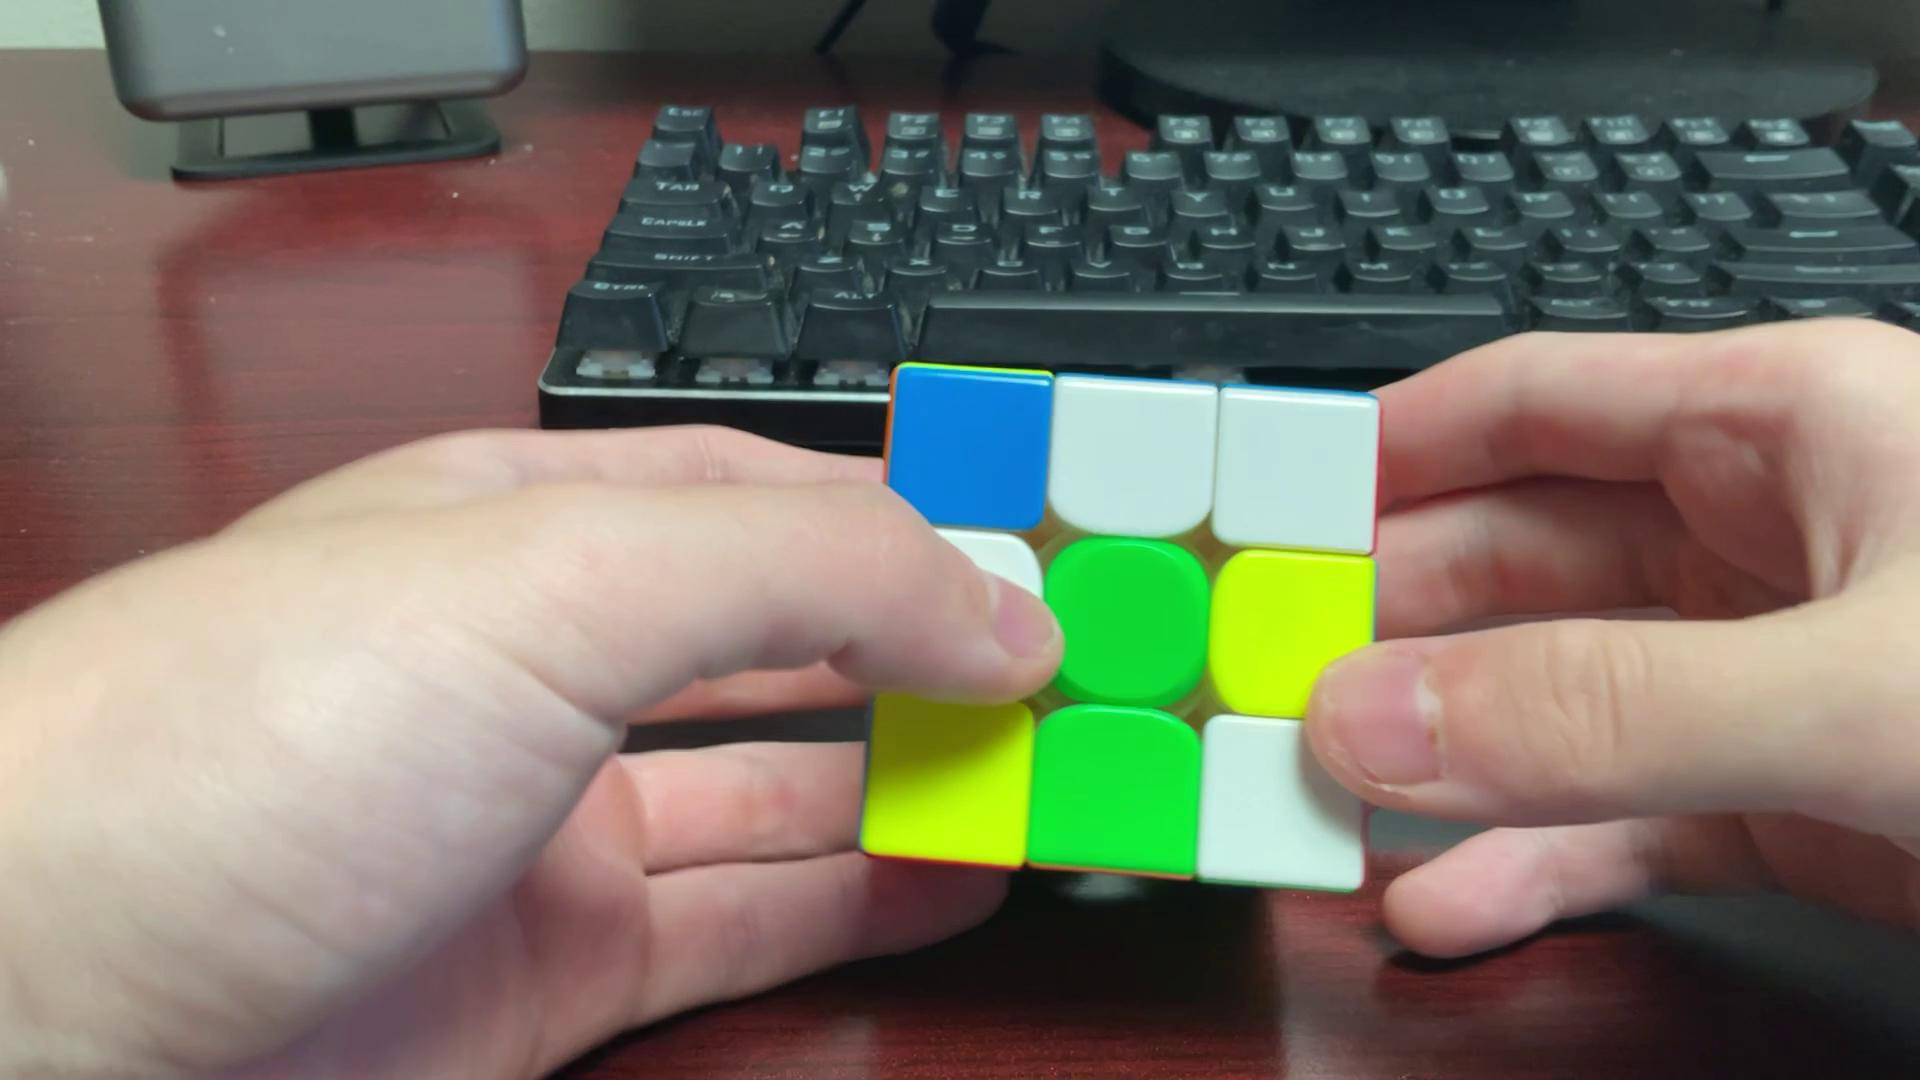Rubiks-Cube: (854, 344, 1383, 910)
